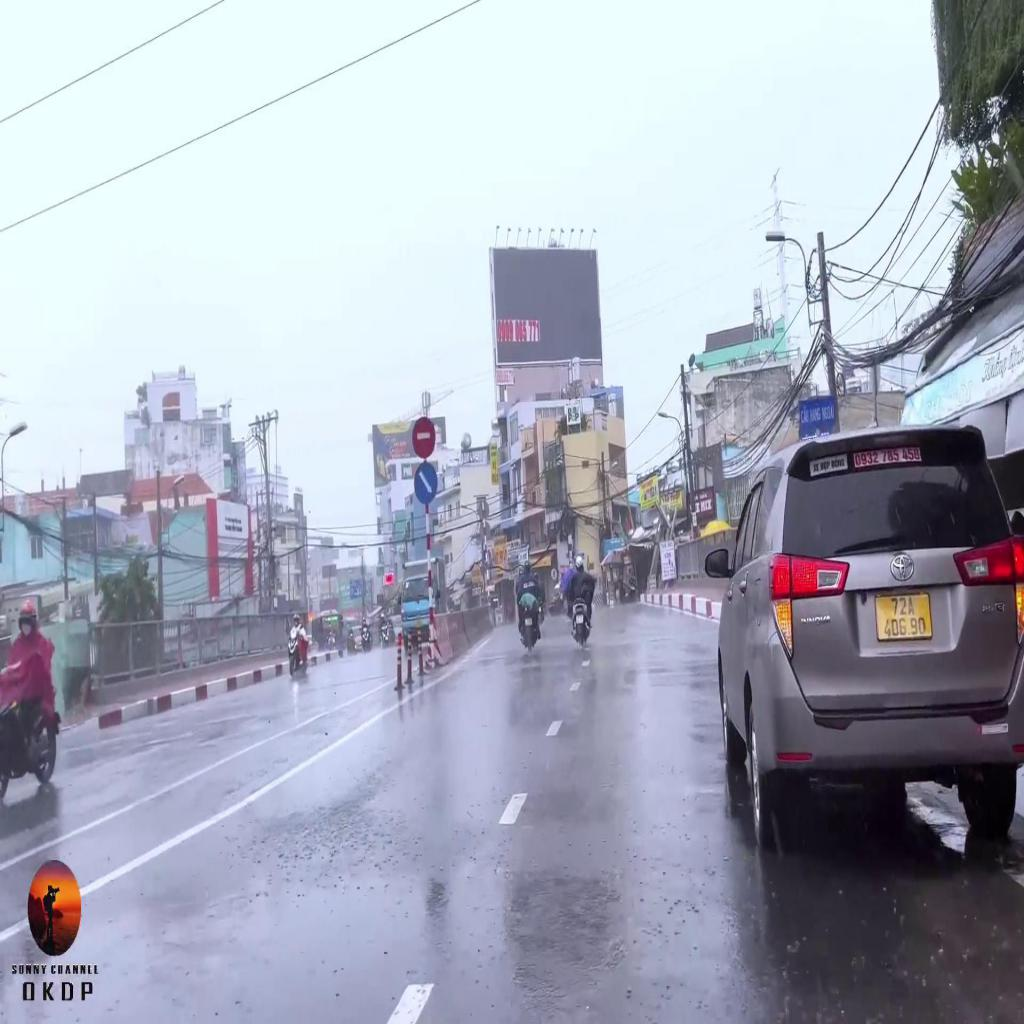cam_xe_di_nguoc_chieu: (412, 417, 436, 460)
huong_phai_di_vuot_chuong_ngai_vat_phai: (414, 462, 437, 504)
